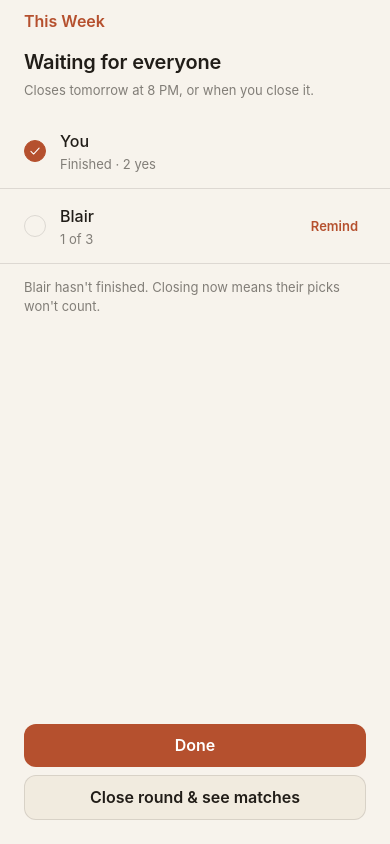
Test: reloads instead of stranding the creator when closing fails
Click the button with test id "waiting-close" at (195, 798), box [24,775,366,820]
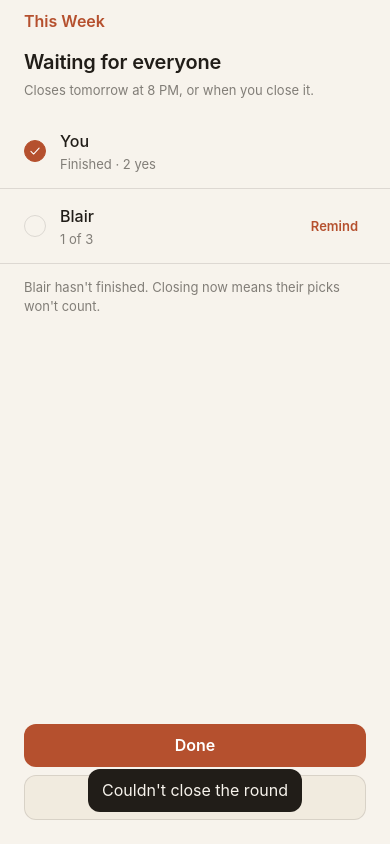
Expected: the text "Couldn't close the round" is shown, [102,777,288,804]
